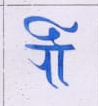au_matra: (44, 15, 74, 85)
